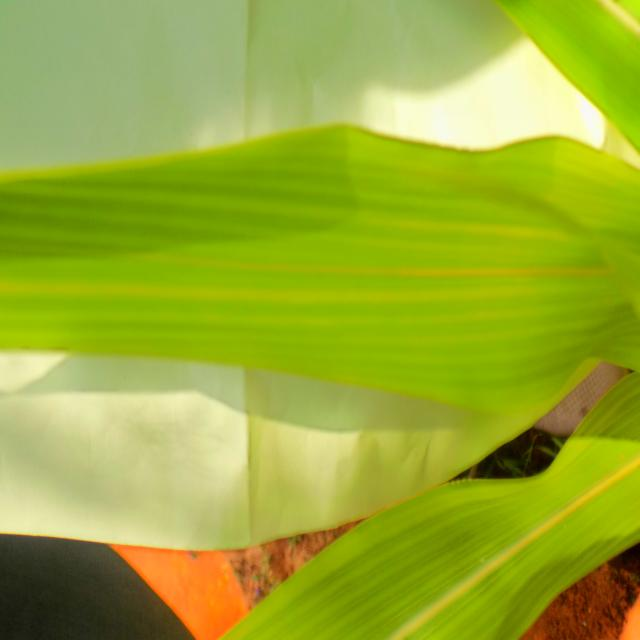millet_healthy: (0, 128, 640, 409), (216, 371, 640, 639)
